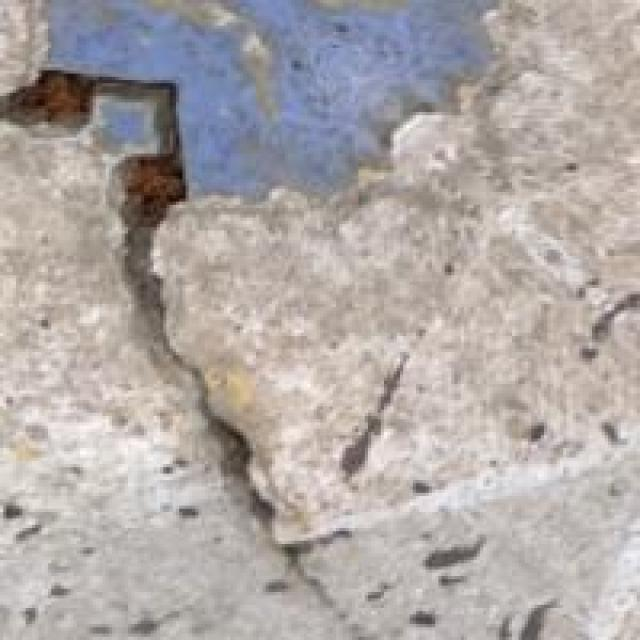Crack: (7, 48, 458, 630)
